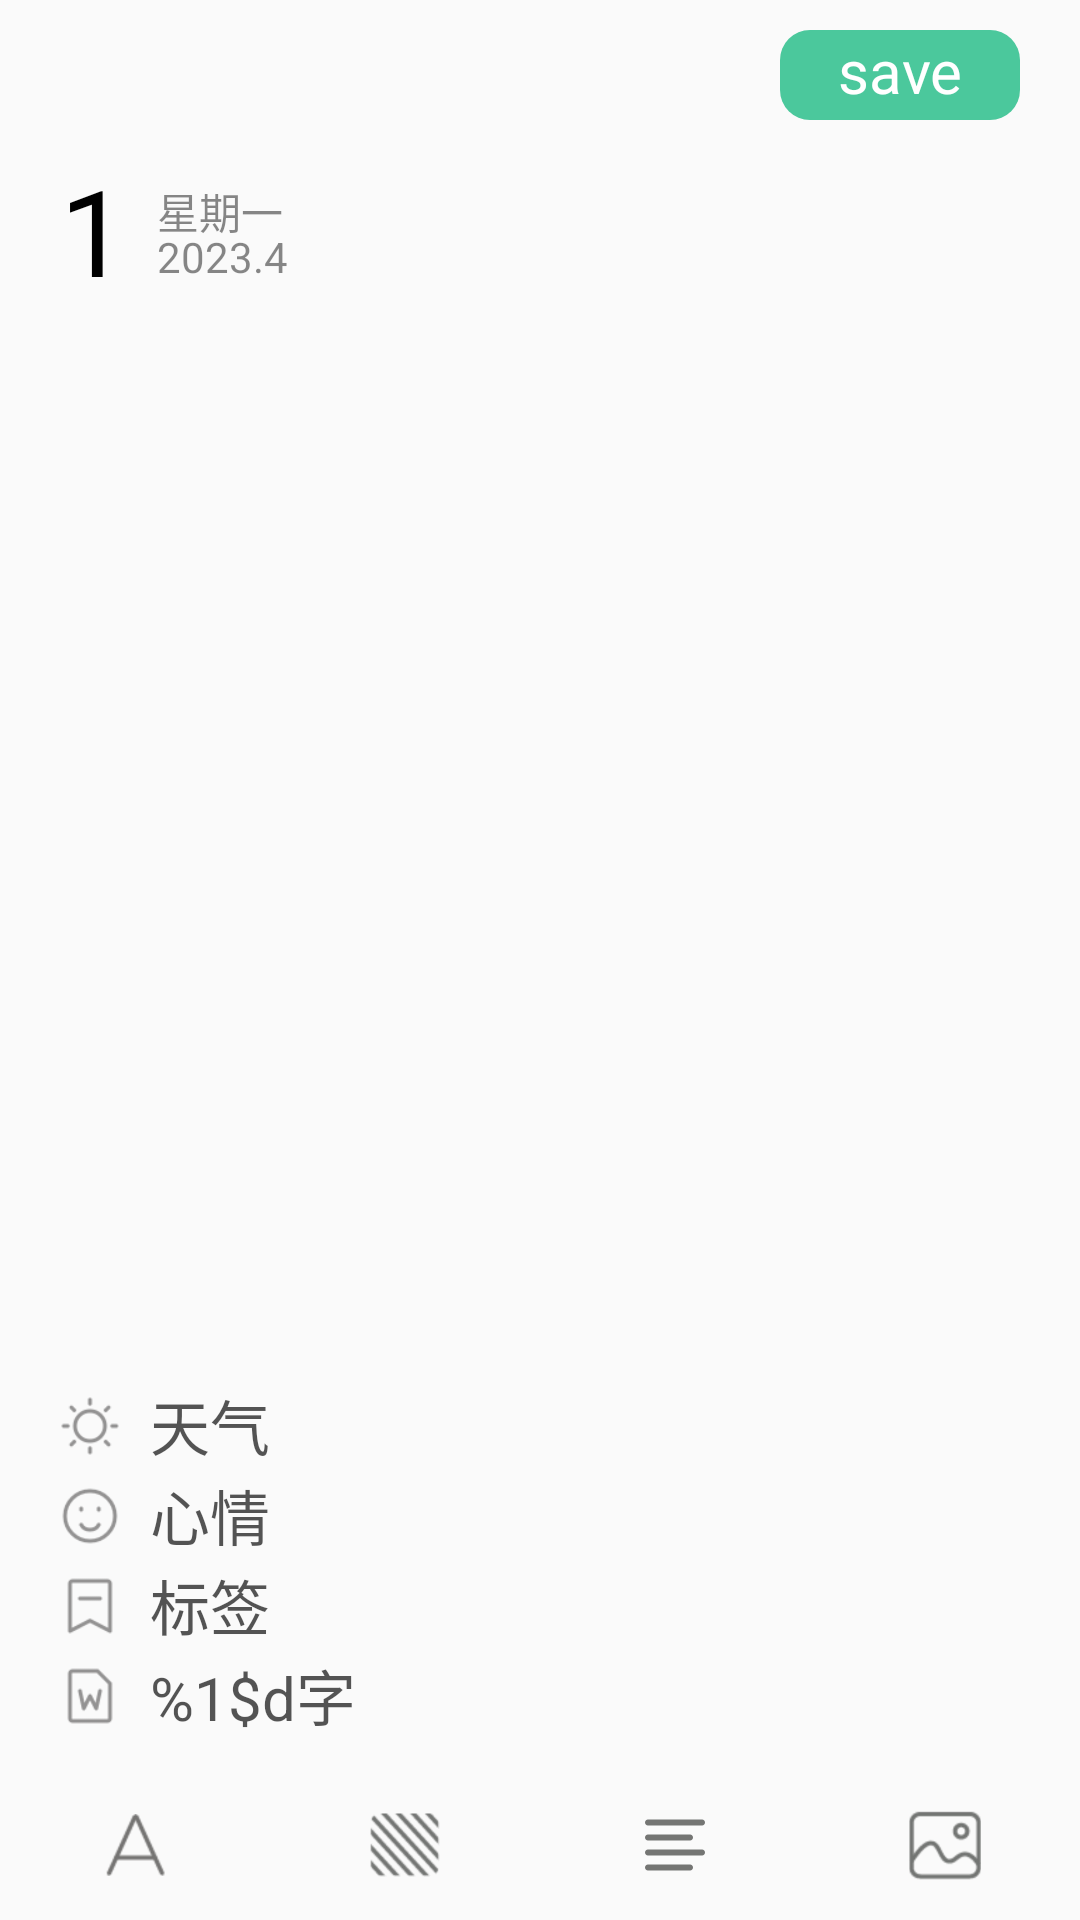

Icons on this 1080*1920 Android screen, each with its box as (x1, y1, x2, y2):
format: (645, 1819, 705, 1871)
insert pic: (909, 1812, 981, 1879)
tag: (67, 1578, 113, 1633)
tag mood: (63, 1489, 117, 1543)
tag weather: (61, 1397, 119, 1455)
text: (106, 1814, 165, 1876)
